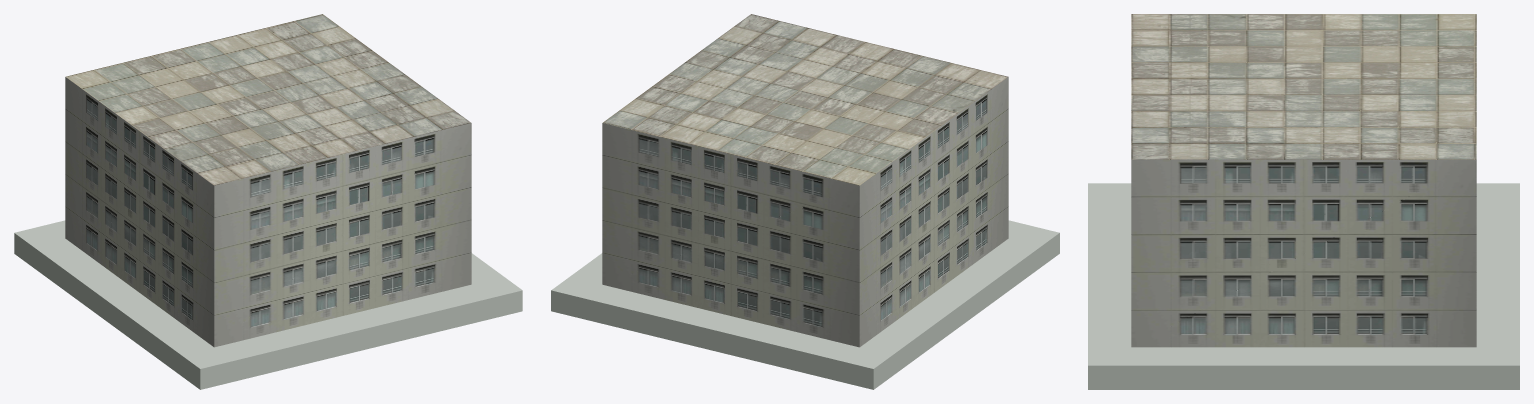
Rendered from BagSS03base_0.fbx.
The picture shows the model from 3 angles, left to right: view 1: azimuth 30°, elevation 25°; view 2: azimuth 150°, elevation 25°; view 3: azimuth 270°, elevation 25°; orthographic projection. The views are drawn at different scales.
Visible parts, largest first — view 1: baseBox0, baseRoof0, baseBase0; view 2: baseBox0, baseRoof0, baseBase0; view 3: baseBox0, baseRoof0, baseBase0.
Boxes of the visible parts, x1,y1,x2,y2 form: baseBox0: (65, 77, 471, 347); baseRoof0: (65, 14, 470, 185); baseBase0: (14, 220, 522, 389); baseBox0: (602, 77, 1008, 347); baseRoof0: (603, 14, 1008, 185); baseBase0: (551, 220, 1059, 389); baseBox0: (1131, 159, 1476, 347); baseRoof0: (1131, 14, 1476, 159); baseBase0: (1088, 183, 1519, 389).
Size of the model in its own units: 25.6 by 13.85 by 25.6.
